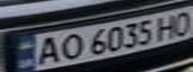0: (106, 24, 127, 52)
3: (121, 20, 142, 48)
5: (136, 17, 160, 45)
6: (87, 26, 109, 56)
A: (30, 34, 63, 66)
H: (151, 12, 184, 41)
O: (54, 32, 84, 61), (169, 8, 193, 37)
